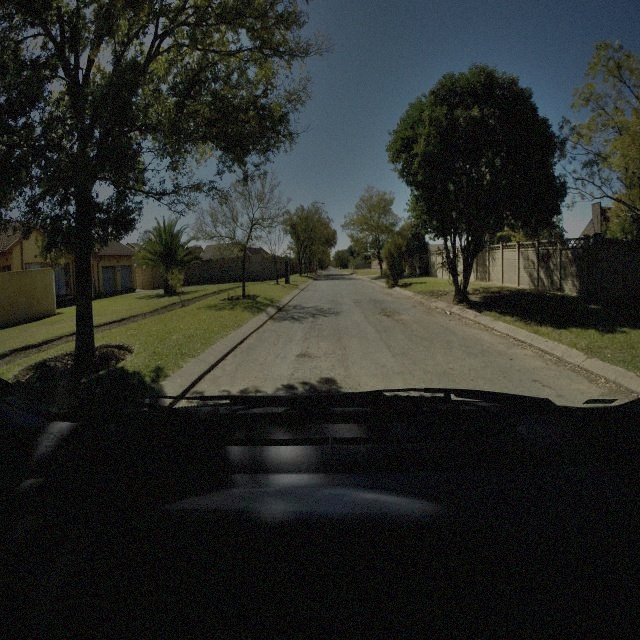pothole: (379, 308, 402, 322), (294, 353, 314, 363)
